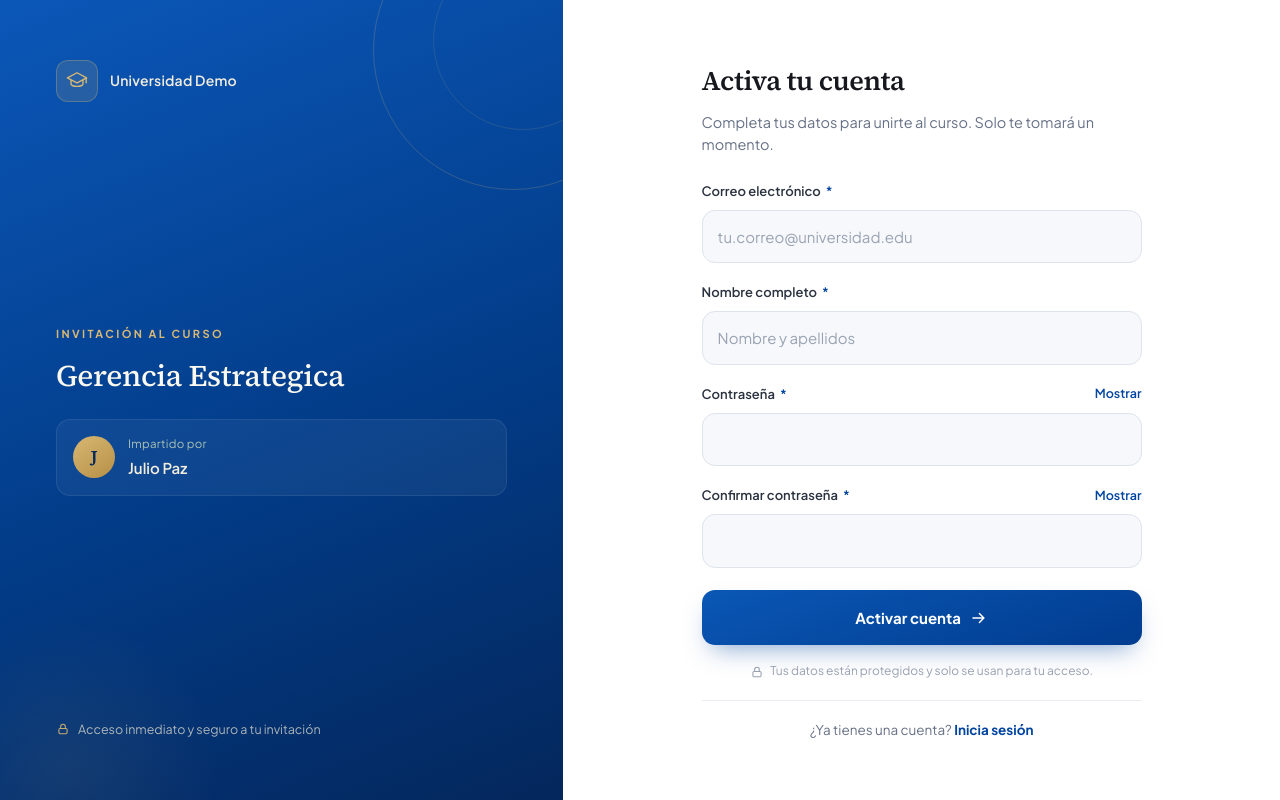
Test: StudentJoinPage › offers in-place sign-in when activation succeeds (201) but the auto sign-in fails
The width and height of the screenshot is (1280, 800).
Expected: the button "Activar cuenta" is shown, top-left (702, 590), bottom-right (1142, 646)
Type "ya@universidad.edu" into the field with placeholder "tu.correo@universidad.edu" at (922, 236), box top-left (702, 210), bottom-right (1142, 263)
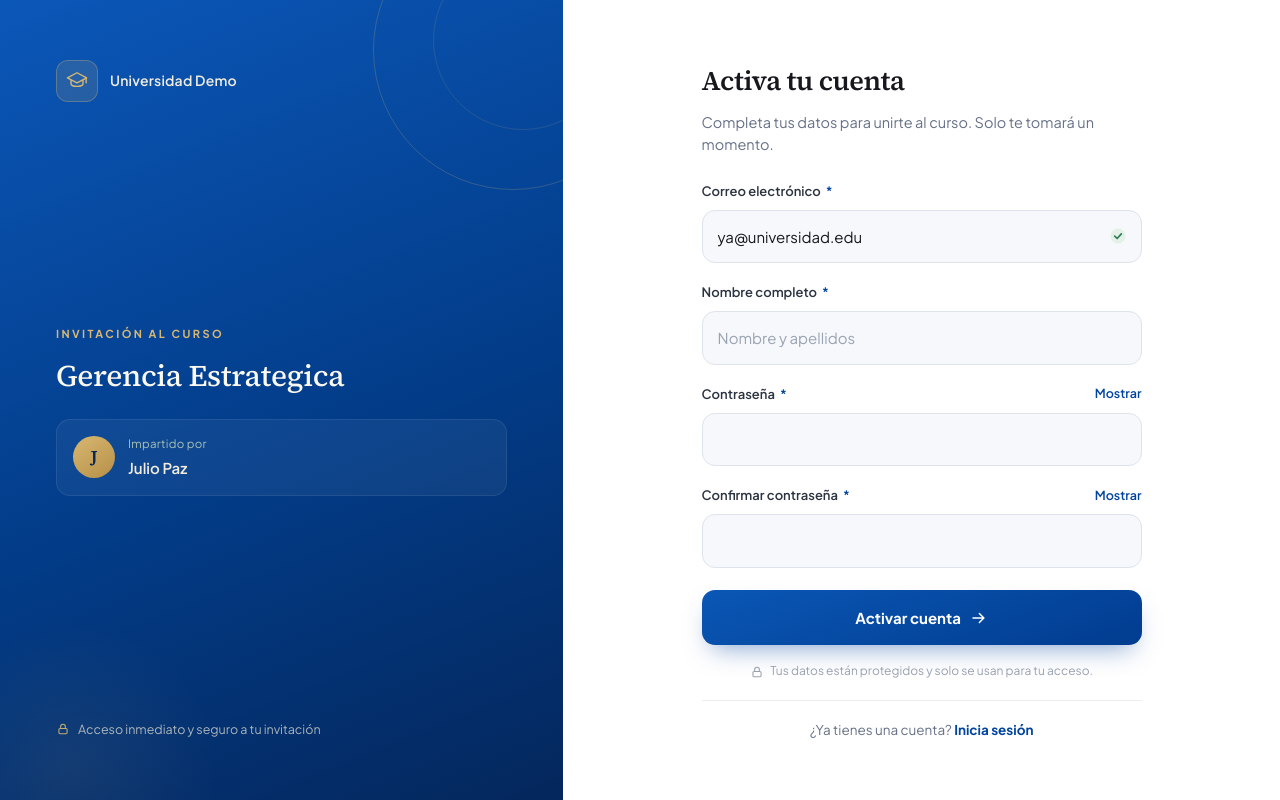
Type "Estudiante Test" into the field with placeholder "Nombre y apellidos" at (922, 338), box top-left (702, 311), bottom-right (1142, 365)
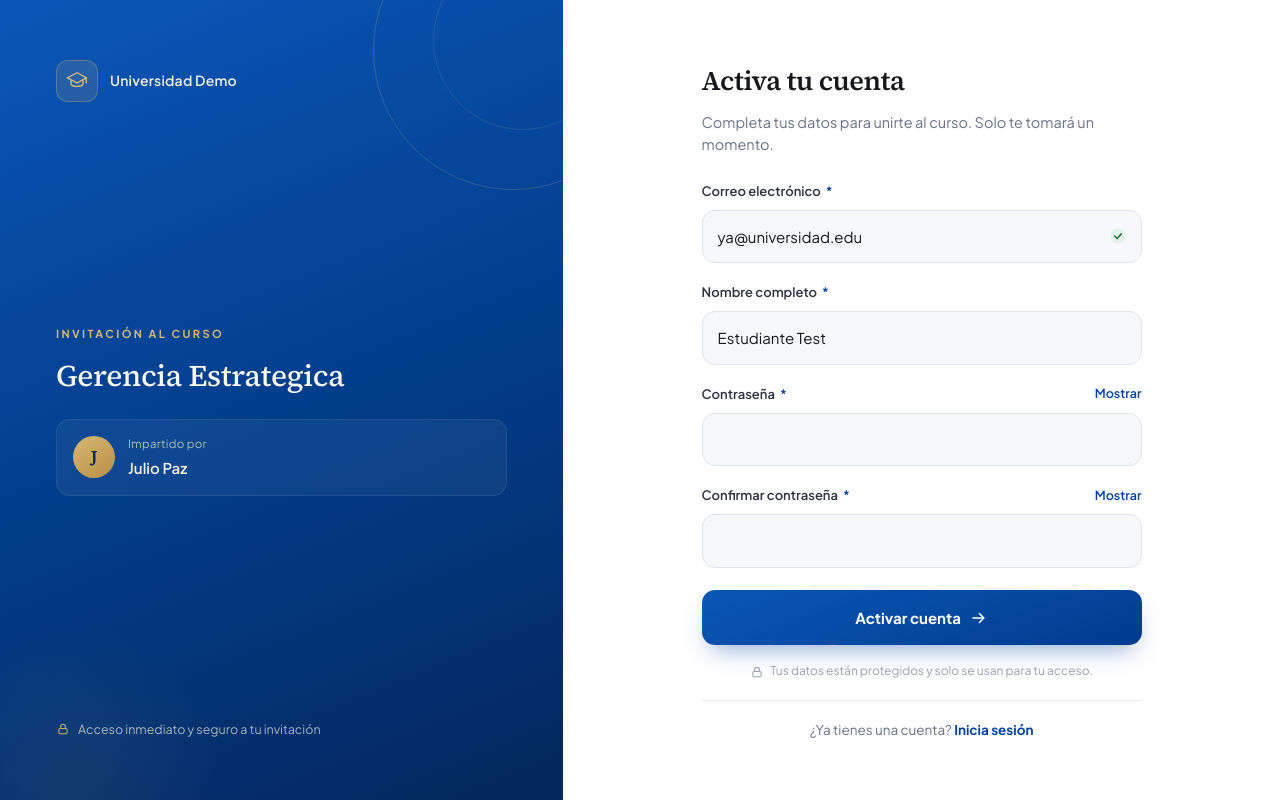
Type "Password123!" into the password field labelled "Contraseña *" at (922, 440), box top-left (702, 413), bottom-right (1142, 466)
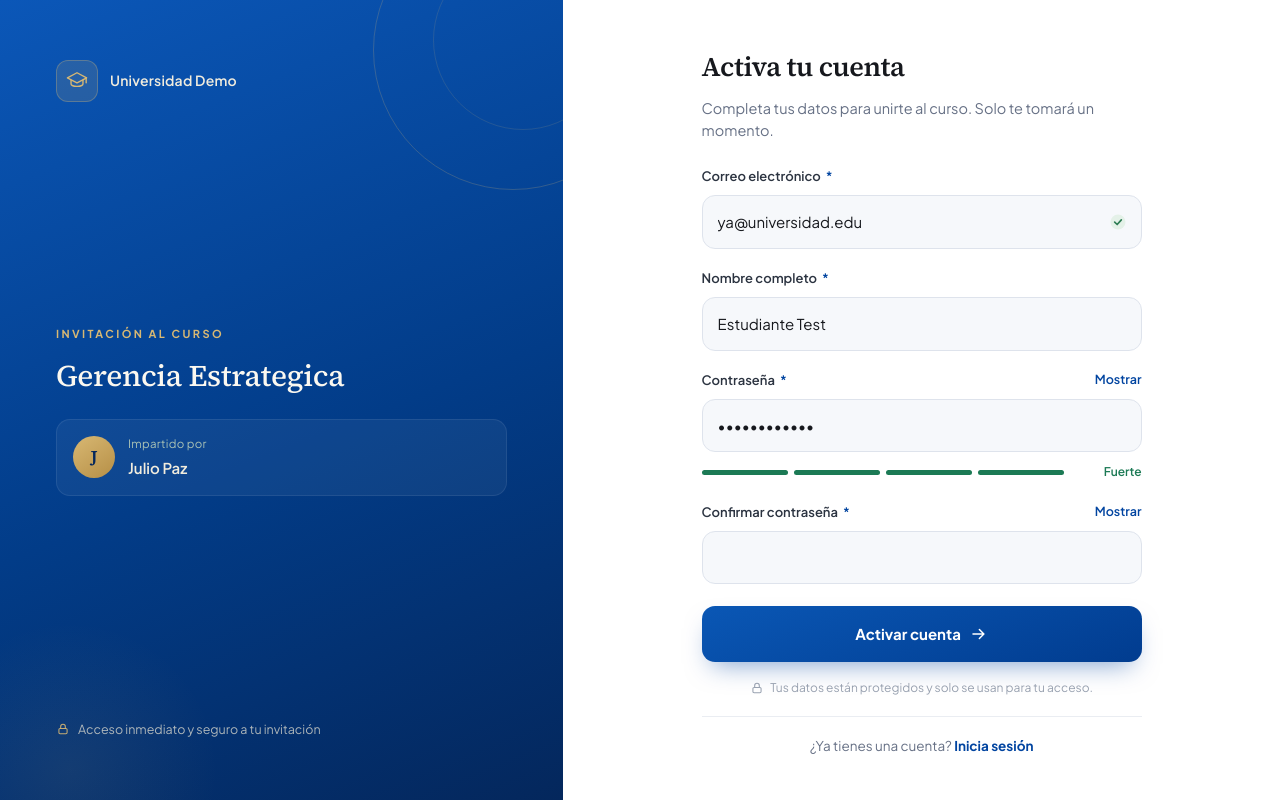
Type "Password123!" into the password field labelled "Confirmar contraseña *" at (922, 557), box top-left (702, 531), bottom-right (1142, 584)
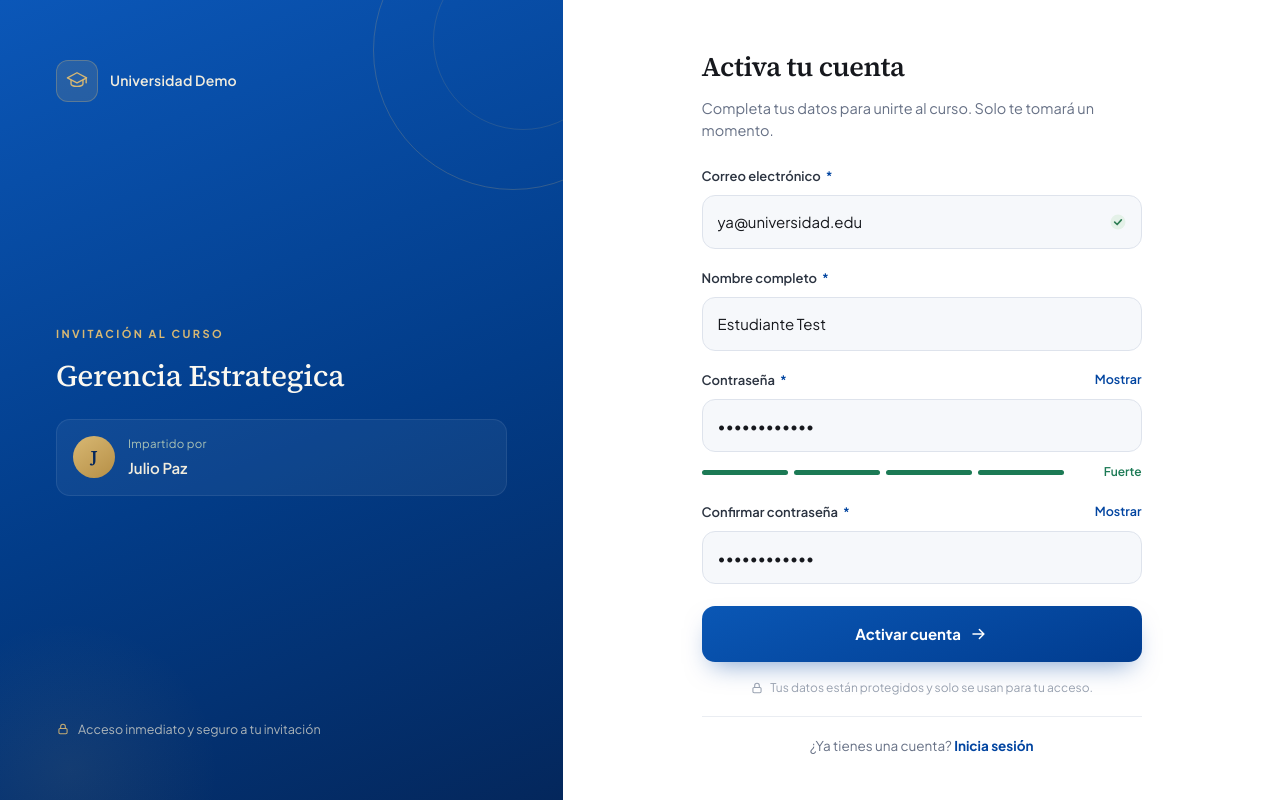
Submit the form, box top-left (702, 267), bottom-right (1142, 698)
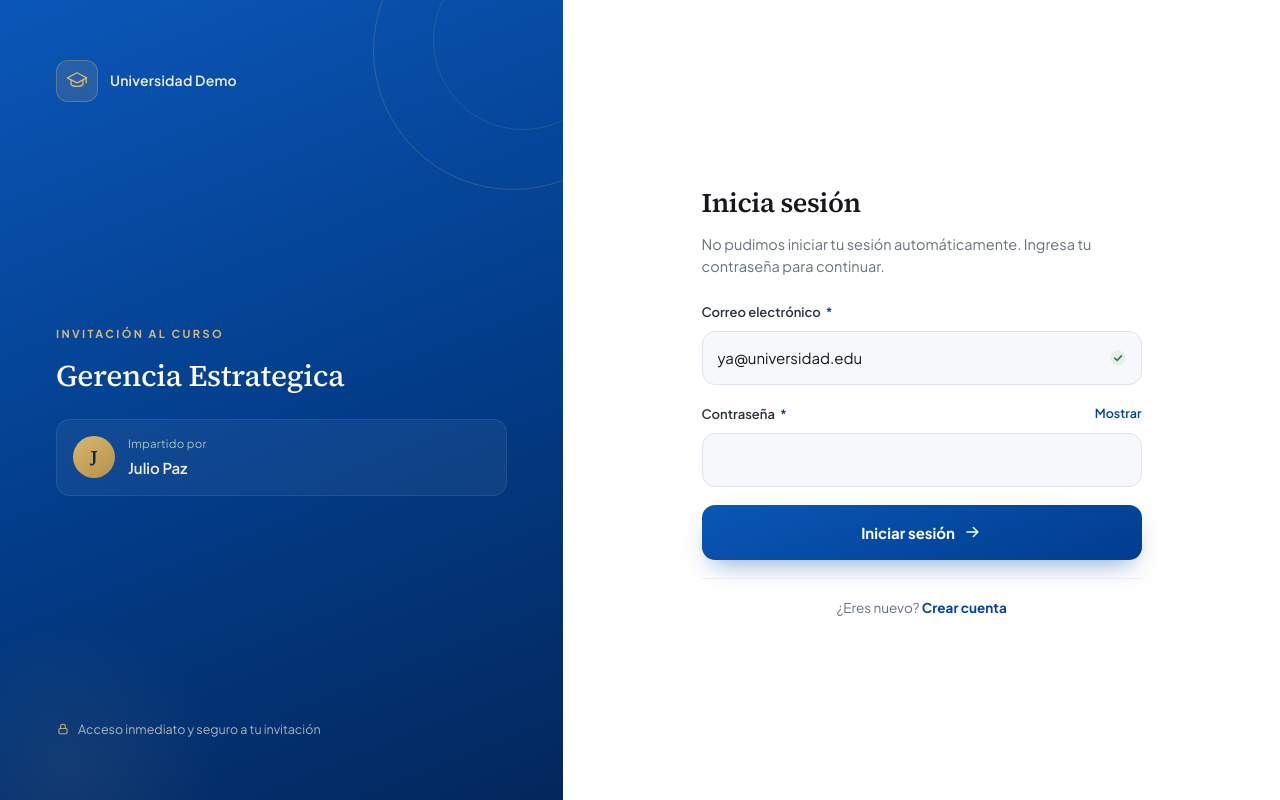
Result: the text "No pudimos iniciar tu sesión automáticamente" is shown at top-left (702, 235), bottom-right (1091, 275)
Result: the button "Iniciar sesión" is shown at top-left (702, 505), bottom-right (1142, 560)
